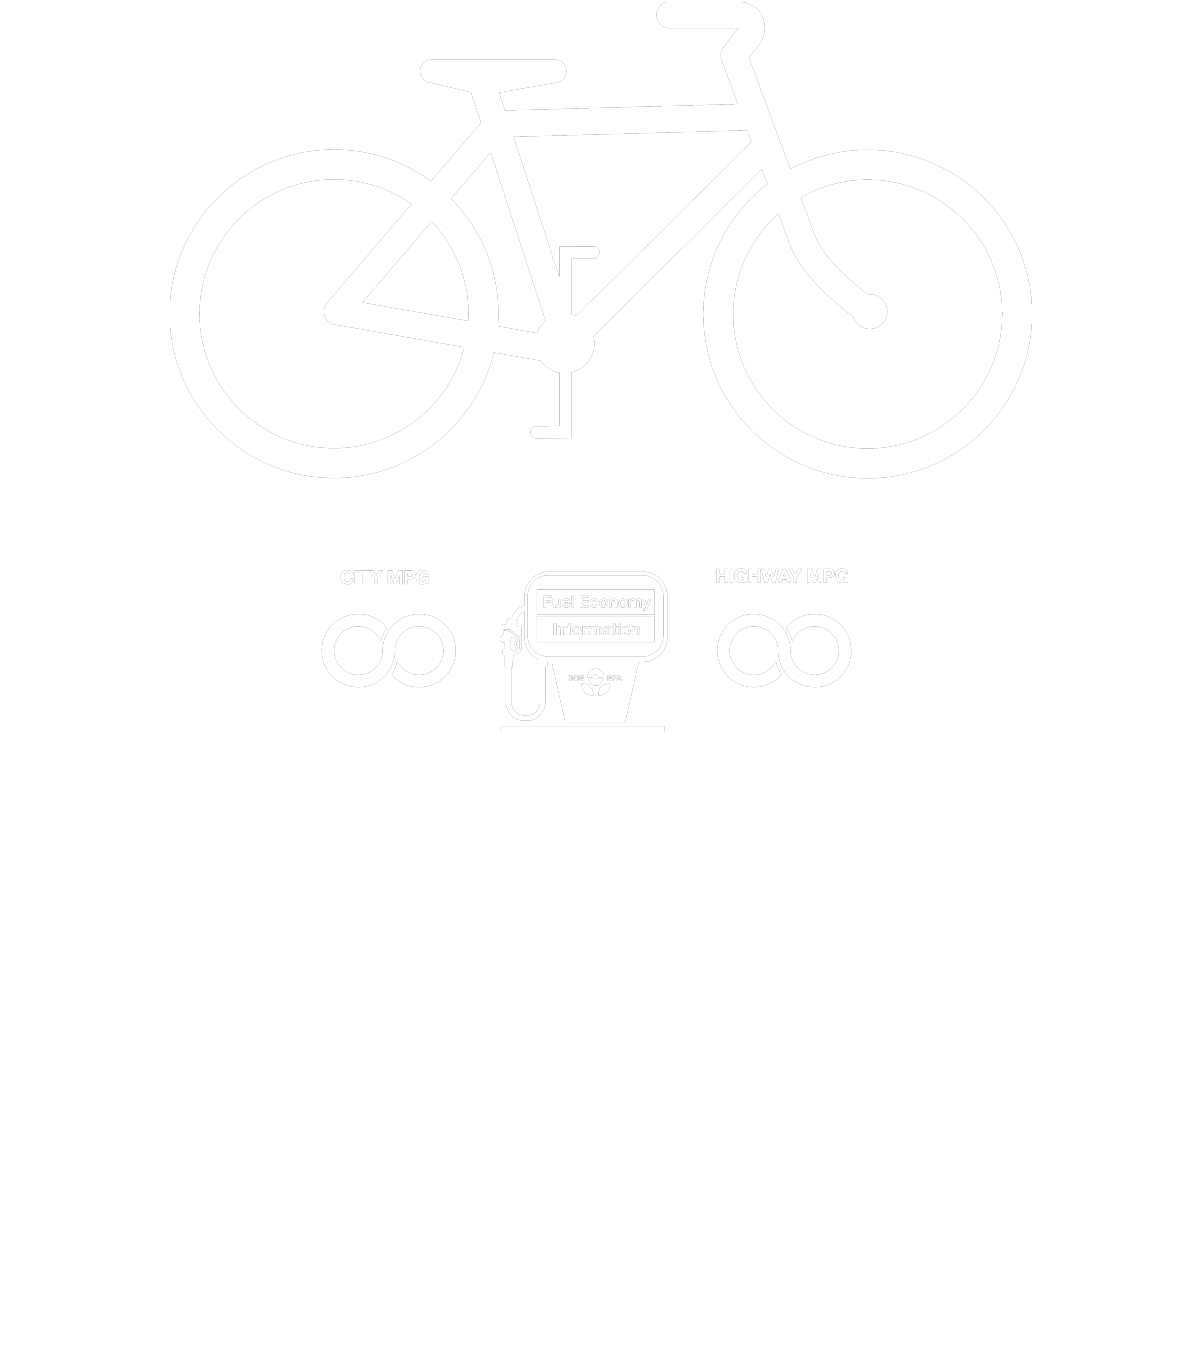design: (159, 3, 1045, 788)
